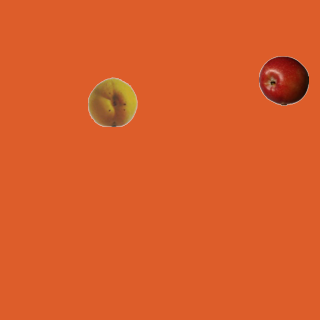Apple Braeburn: (258, 55, 308, 105)
Peach 2: (87, 76, 137, 126)
